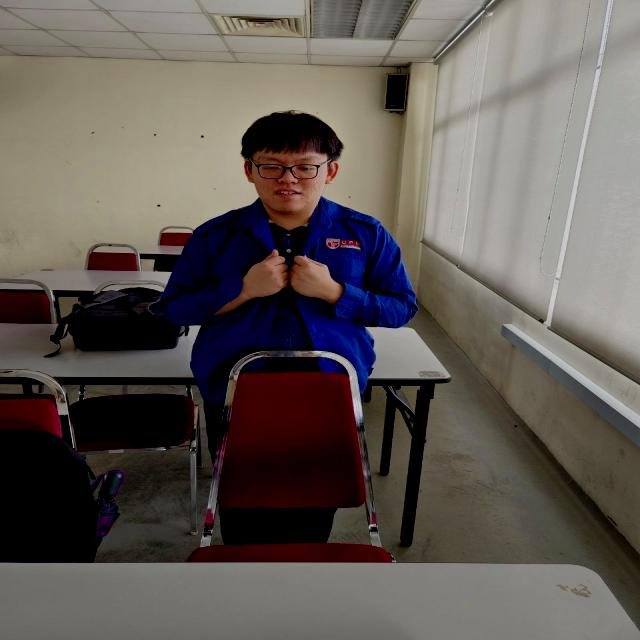person_with_labcoat: (160, 112, 417, 458)
